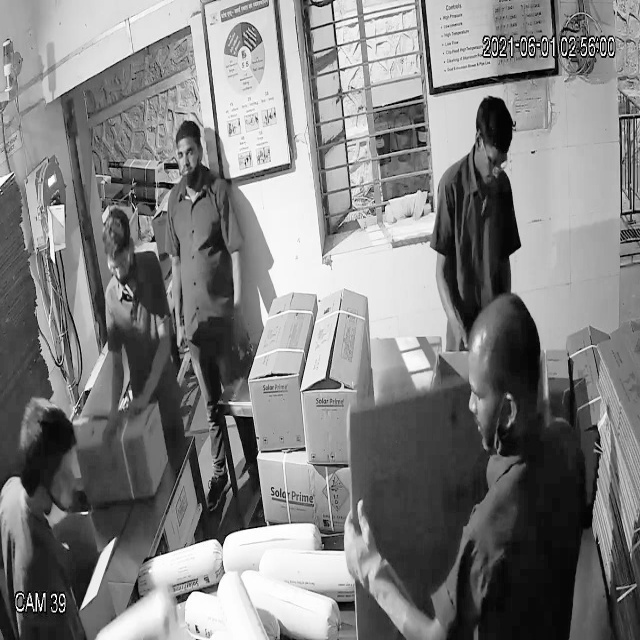Gafas: (476, 135, 514, 179)
